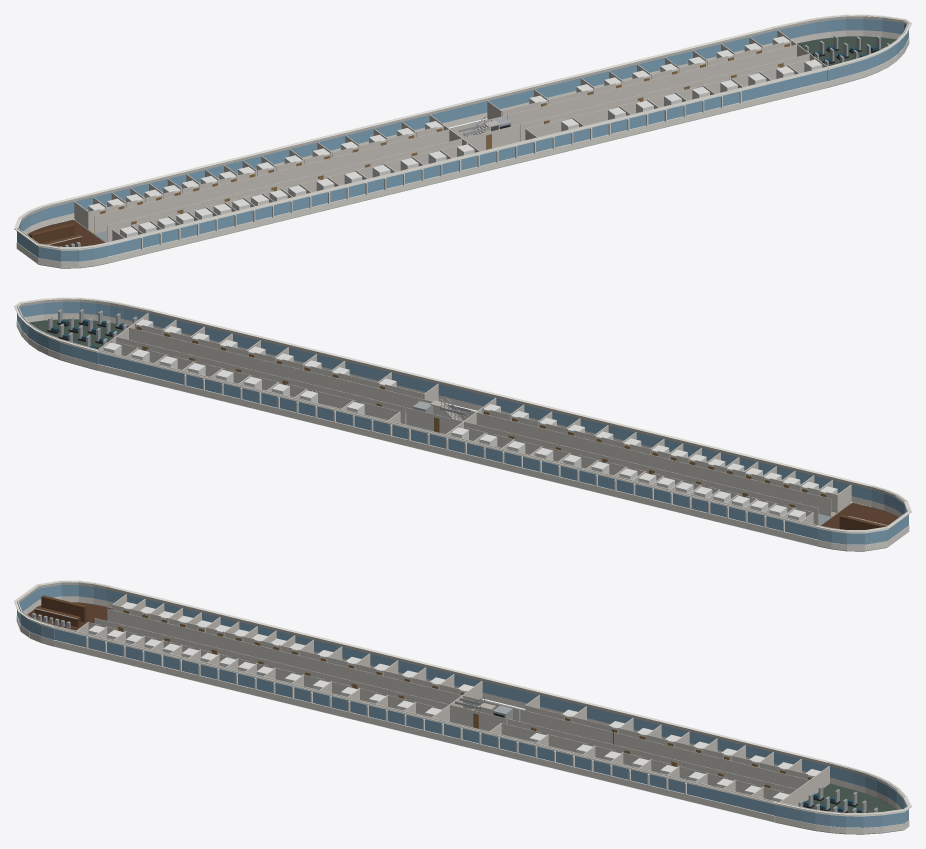
File: deck_middle.glb
The picture shows the model from 3 angles, top to bottom: view 1: azimuth 30°, elevation 25°; view 2: azimuth 150°, elevation 25°; view 3: azimuth 330°, elevation 25°; orthographic projection.
Visible parts, largest first — view 1: deck_middle (×10); view 2: deck_middle (×9); view 3: deck_middle (×10).
Boxes of the visible parts, bbox=[...] form: deck_middle (×10): bbox=[14, 14, 911, 268]; deck_middle (×9): bbox=[14, 297, 911, 551]; deck_middle (×10): bbox=[14, 580, 911, 834].
Size of the model in its own units: 123 by 3.93 by 13.64.
